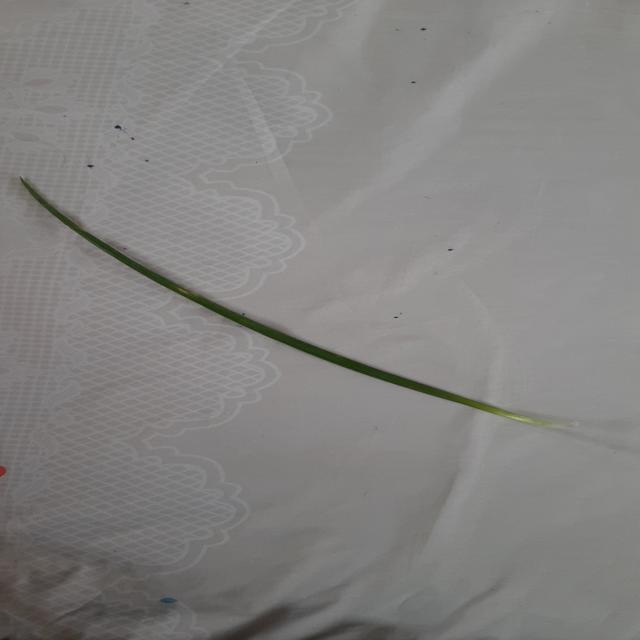onion: (19, 178, 577, 429)
